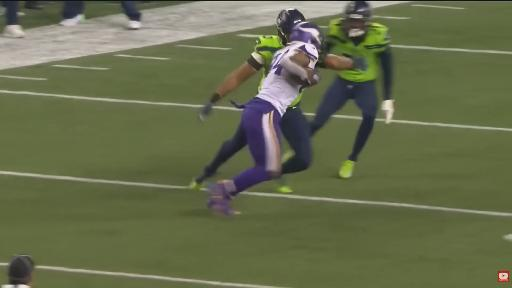Helmet: (277, 9, 305, 45), (343, 1, 371, 37), (290, 22, 323, 51)
Jersey: (257, 43, 318, 115), (327, 19, 390, 81), (254, 36, 284, 91)
Player: (208, 22, 323, 214), (310, 1, 393, 178), (200, 9, 305, 119)
